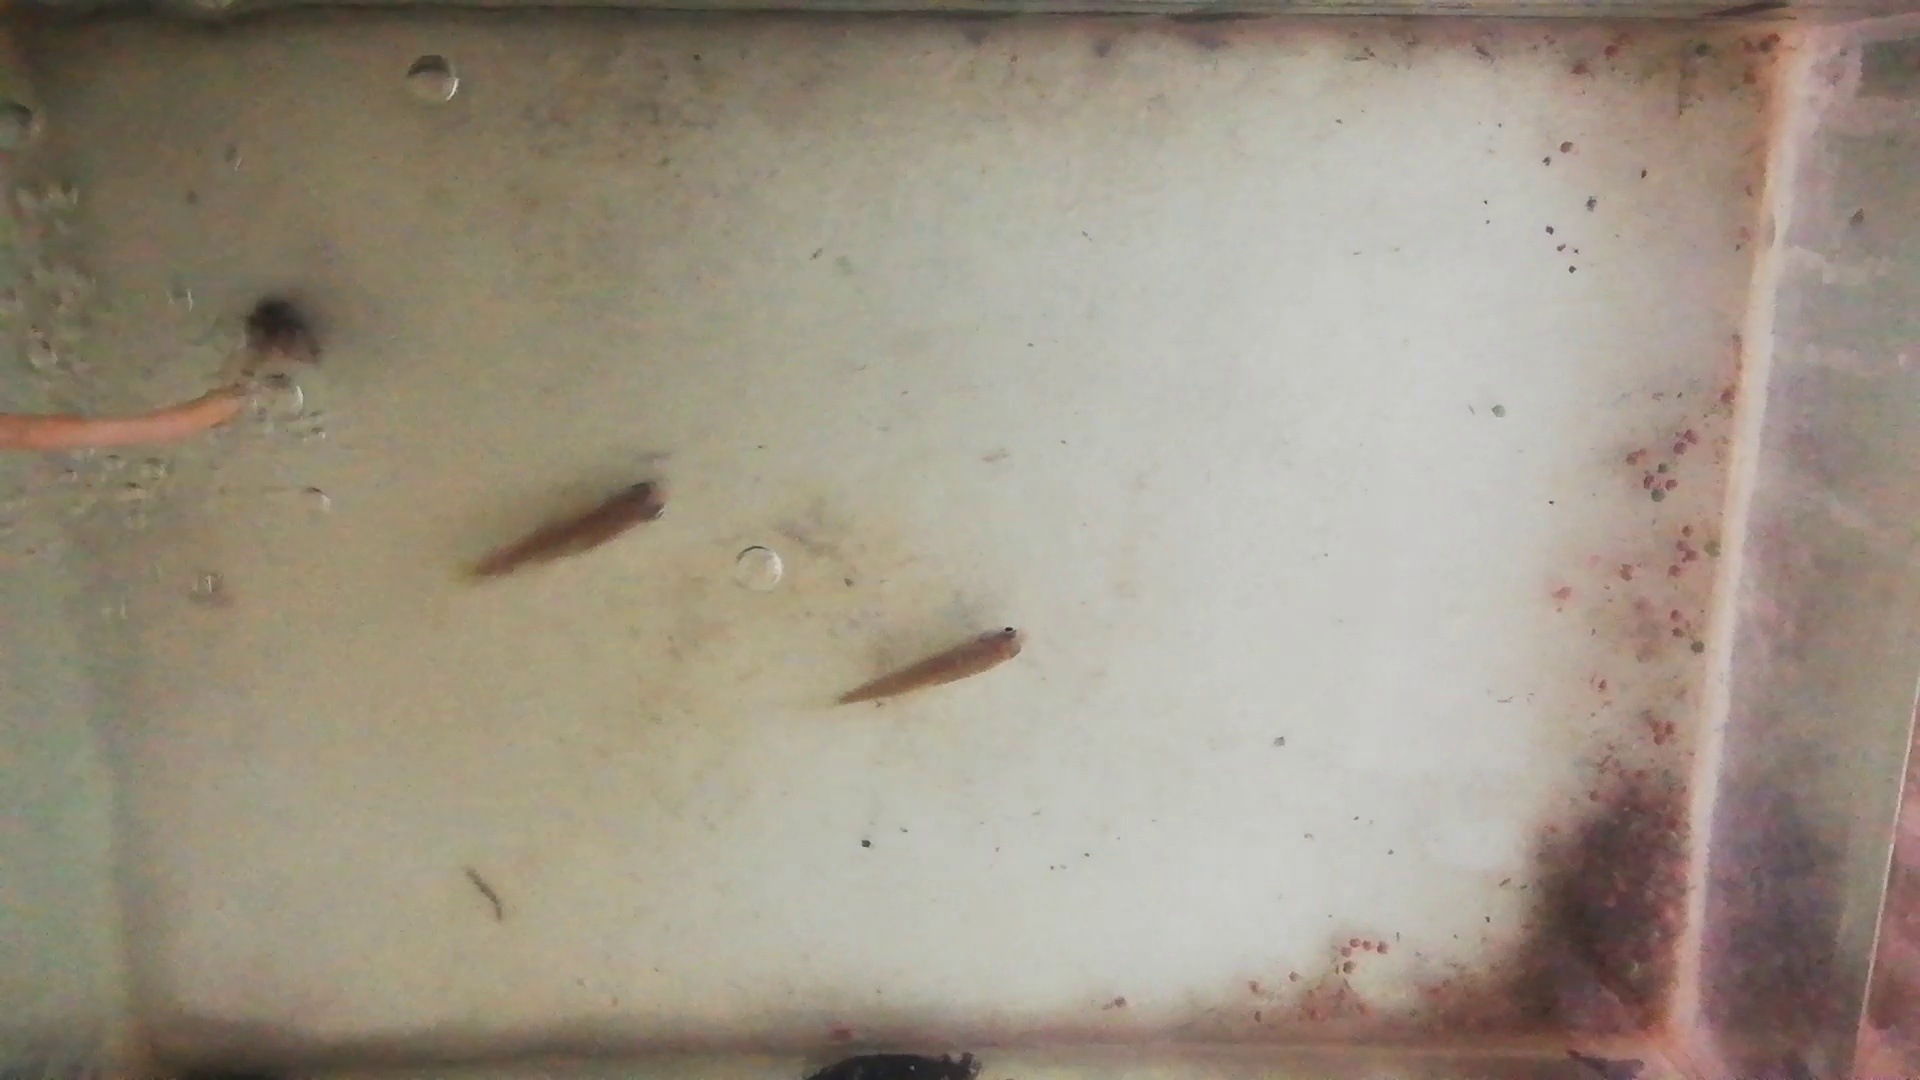fish: (464, 477, 669, 582), (837, 626, 1030, 705)
